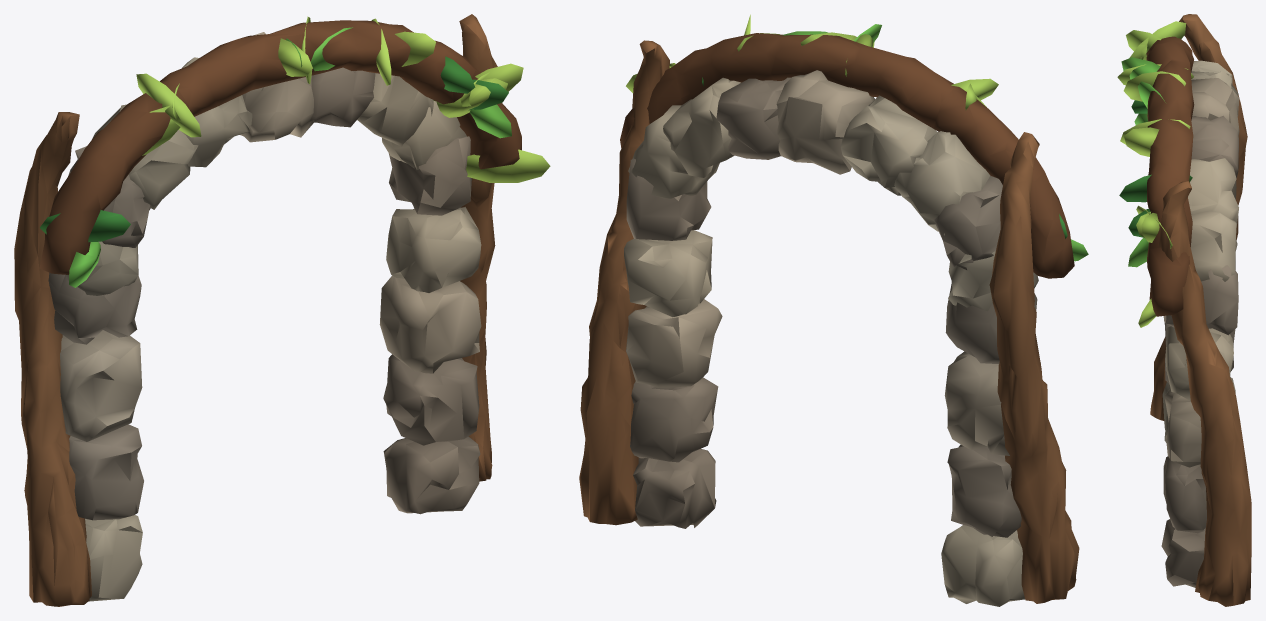
Rendered from glade_portal_arch_lod1.glb.
3 renders of one model, left to right at view 1: azimuth 30°, elevation 25°; view 2: azimuth 150°, elevation 25°; view 3: azimuth 270°, elevation 25°, orthographic. The views are drawn at different scales.
Parts seen in each view (by area): view 1: glade_portal_arch.001; view 2: glade_portal_arch.001; view 3: glade_portal_arch.001.
Boxes of the visible parts, <box> form: glade_portal_arch.001: <box>14,14,550,606</box>; glade_portal_arch.001: <box>579,14,1088,606</box>; glade_portal_arch.001: <box>1117,14,1251,606</box>.
Bounding box in the file's own units: 9.9 × 10.24 × 2.74.
